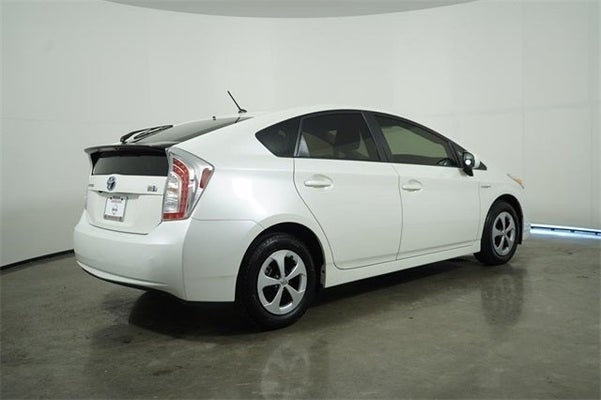Toyota Prius: (71, 102, 527, 332)
